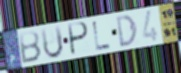4: (141, 8, 160, 44)
B: (18, 30, 42, 65)
D: (114, 13, 138, 49)
L: (91, 20, 113, 53)
P: (68, 21, 90, 57)
U: (39, 24, 65, 61)
